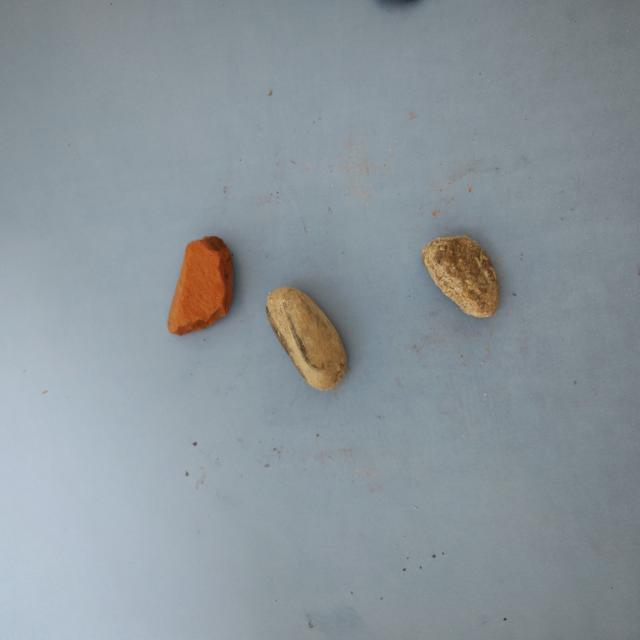-Other waste - brick-: (167, 233, 236, 339)
-Other waste - pebble-: (267, 279, 355, 394), (417, 225, 503, 321)
